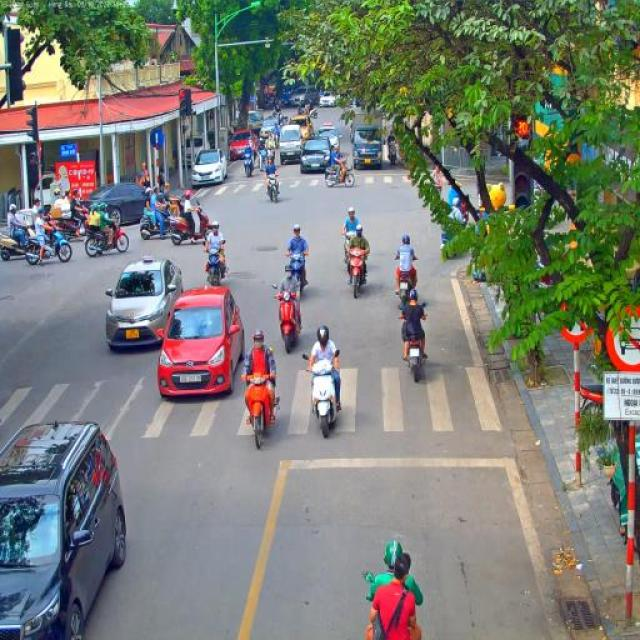car: (0, 419, 128, 640), (156, 285, 245, 400), (104, 256, 184, 352), (86, 182, 158, 224), (192, 150, 228, 188), (298, 136, 332, 175), (279, 124, 303, 166), (227, 129, 255, 162), (316, 124, 340, 154), (290, 114, 314, 141), (292, 84, 319, 108), (259, 118, 280, 143), (248, 111, 262, 138), (318, 90, 337, 108)
motorcycle: (362, 570, 422, 640), (303, 348, 342, 438), (243, 372, 281, 449), (398, 301, 428, 383), (272, 284, 302, 354), (171, 202, 215, 246), (26, 223, 73, 264), (0, 221, 49, 260), (46, 202, 90, 242), (84, 219, 130, 257), (140, 204, 180, 240), (204, 240, 230, 286), (347, 248, 369, 298), (574, 382, 604, 416), (285, 251, 307, 294), (325, 160, 355, 188), (152, 194, 184, 220), (398, 272, 418, 310), (343, 232, 357, 266), (266, 174, 280, 202), (243, 146, 255, 178), (258, 148, 268, 174), (388, 140, 398, 164), (267, 144, 277, 166), (307, 108, 318, 120)
truck: (350, 107, 384, 171), (274, 77, 300, 104)
